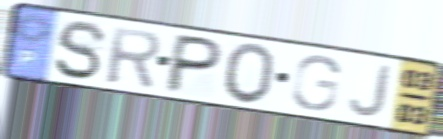G: (289, 53, 343, 113)
J: (347, 63, 394, 119)
O: (221, 41, 278, 107)
P: (160, 31, 227, 96)
R: (104, 24, 164, 90)
S: (51, 18, 110, 83)
